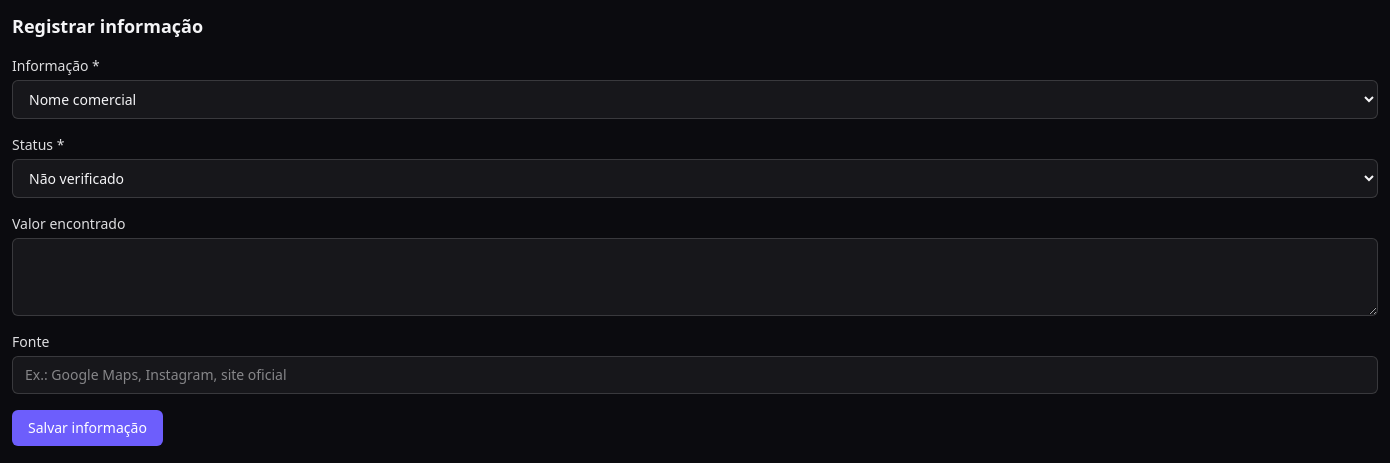
it: EnrichmentFieldForm › shows a pending state while the action is running
Click the button "Salvar informação". click: (87, 428)
box: [12,410,163,446]
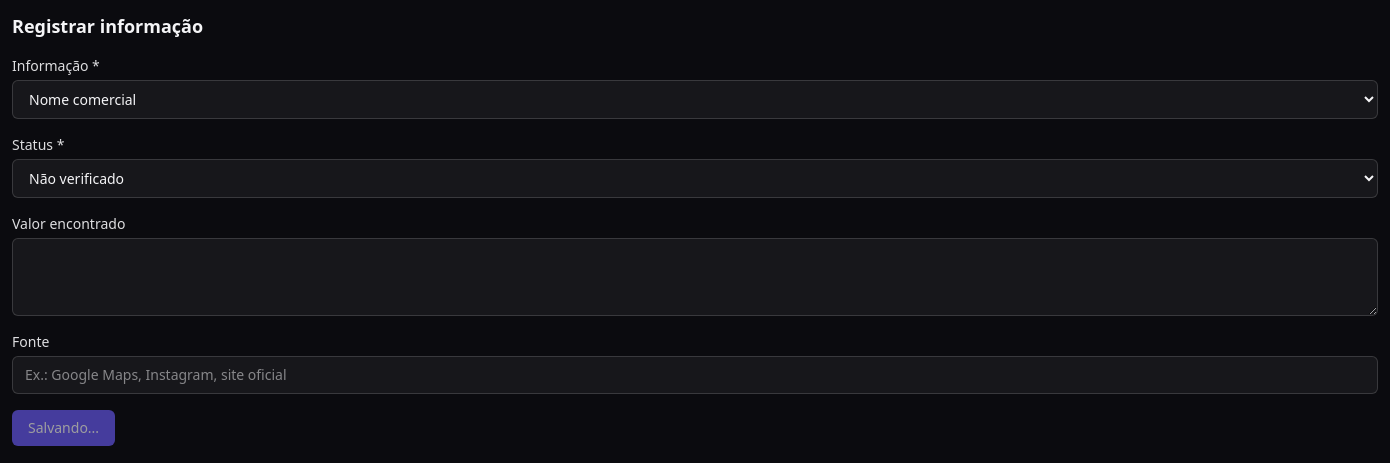
Now the button "Salvando..." is disabled, box [12,410,115,446]
